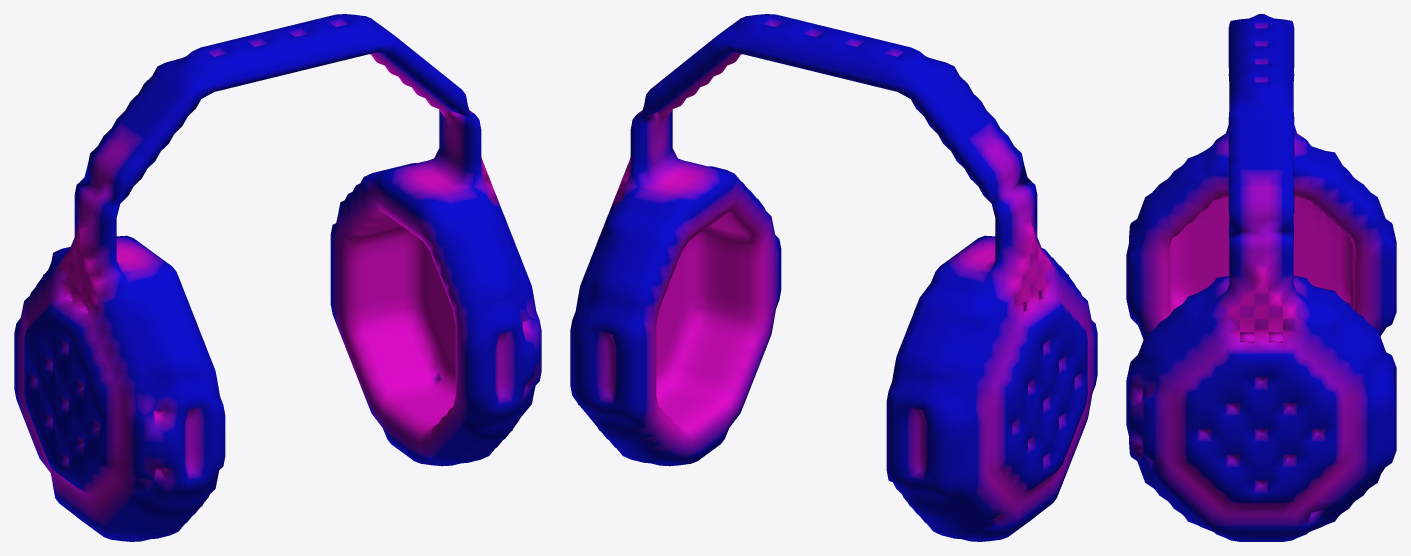
The picture shows the model from 3 angles, left to right: view 1: azimuth 30°, elevation 25°; view 2: azimuth 150°, elevation 25°; view 3: azimuth 270°, elevation 25°; orthographic projection. The views are drawn at different scales.
Size of the model in its own units: 1.6 by 1.6 by 0.95.
